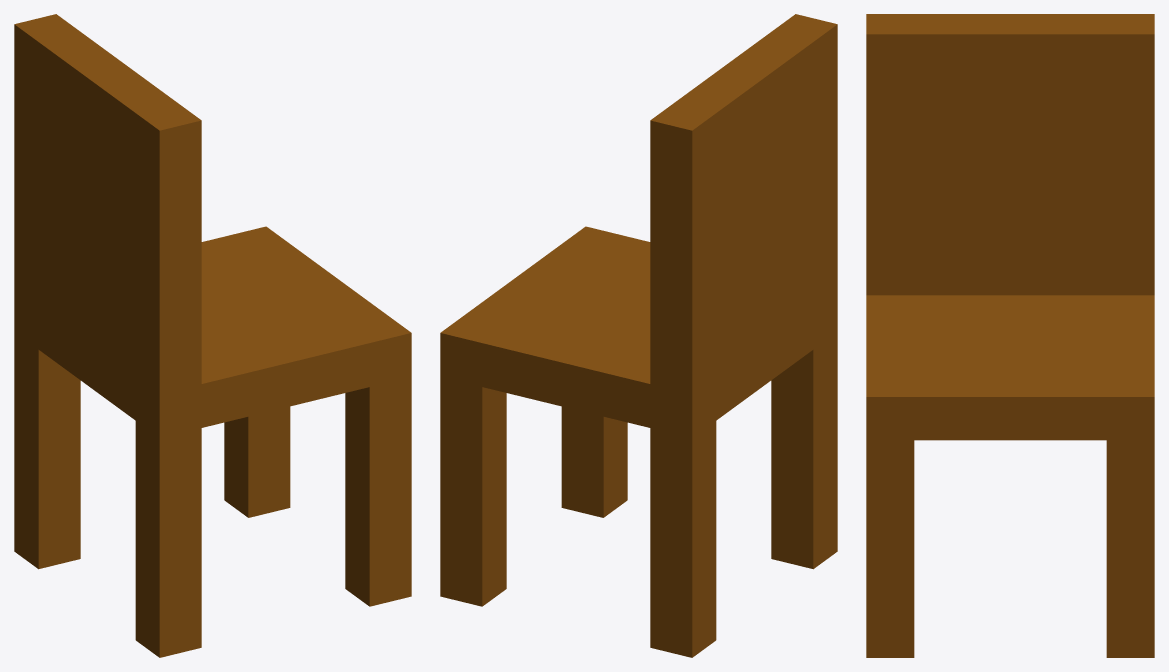
The model's file is Chair.glb.
3 renders of one model, left to right at view 1: azimuth 30°, elevation 25°; view 2: azimuth 150°, elevation 25°; view 3: azimuth 270°, elevation 25°, orthographic.
Parts seen in each view (by area): view 1: Chair-convcol; view 2: Chair-convcol; view 3: Chair-convcol.
Part boxes in pixels (bbox=[...]): Chair-convcol: bbox=[14, 14, 411, 657]; Chair-convcol: bbox=[440, 14, 837, 657]; Chair-convcol: bbox=[866, 14, 1154, 657].
Size of the model in its own units: 6 by 12 by 6.
